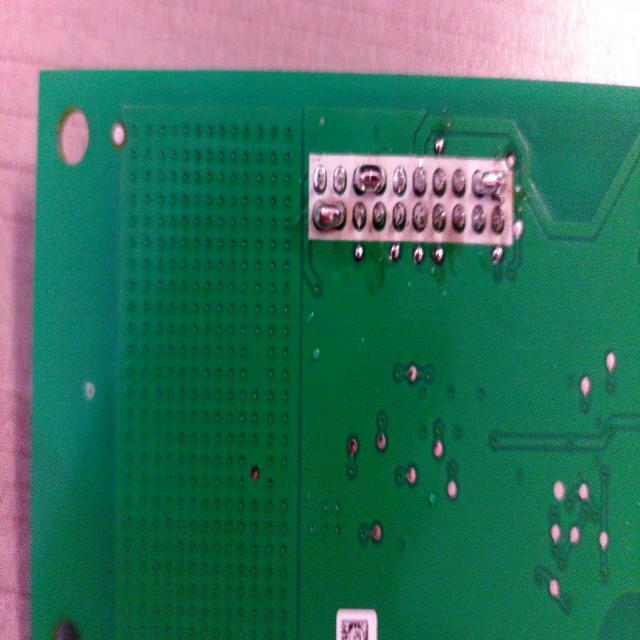Soldering shorted: (312, 196, 348, 236), (469, 168, 506, 202), (354, 163, 384, 196)
